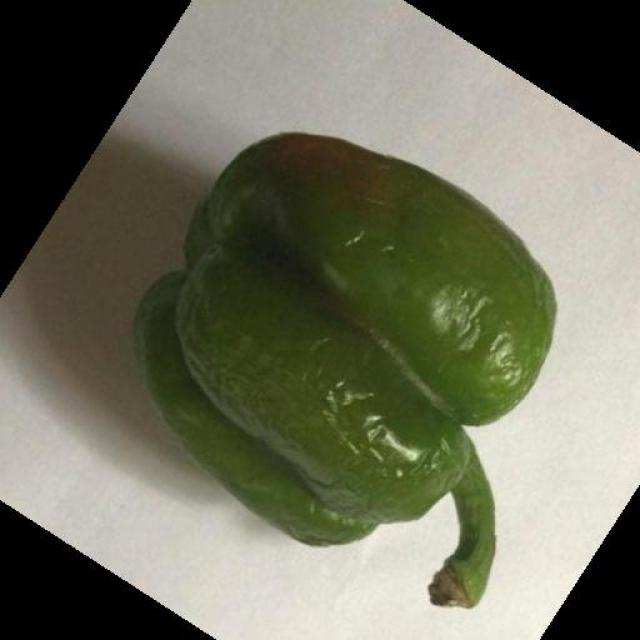Stale_Capsicum: (163, 121, 548, 544)
